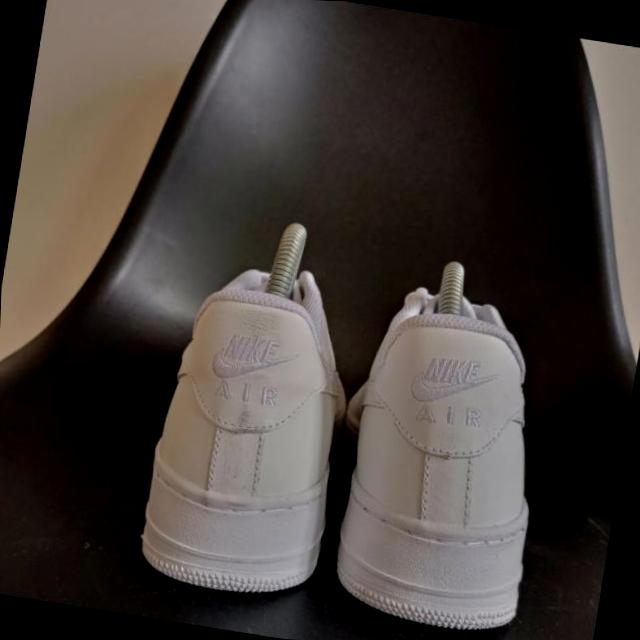nike_fake_airforce: (318, 274, 567, 637), (134, 252, 370, 604)
